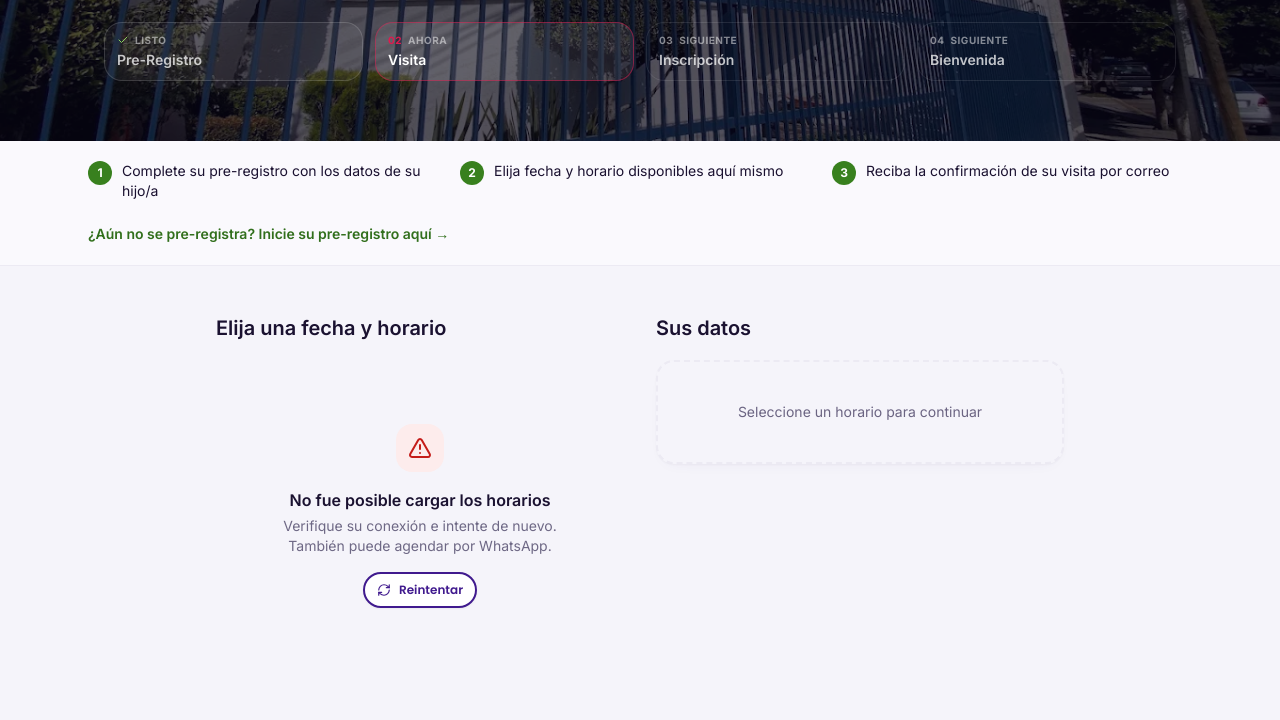
it: BookVisitPage › shows error state and recovers on retry
This screenshot has width=1280, height=720.
(page scrolled)
Expected: the text "No fue posible cargar los horarios" is shown, 290,488 -> 550,512
Click the button "Reintentar".
click(420, 590)  # box 363,572 -> 477,608
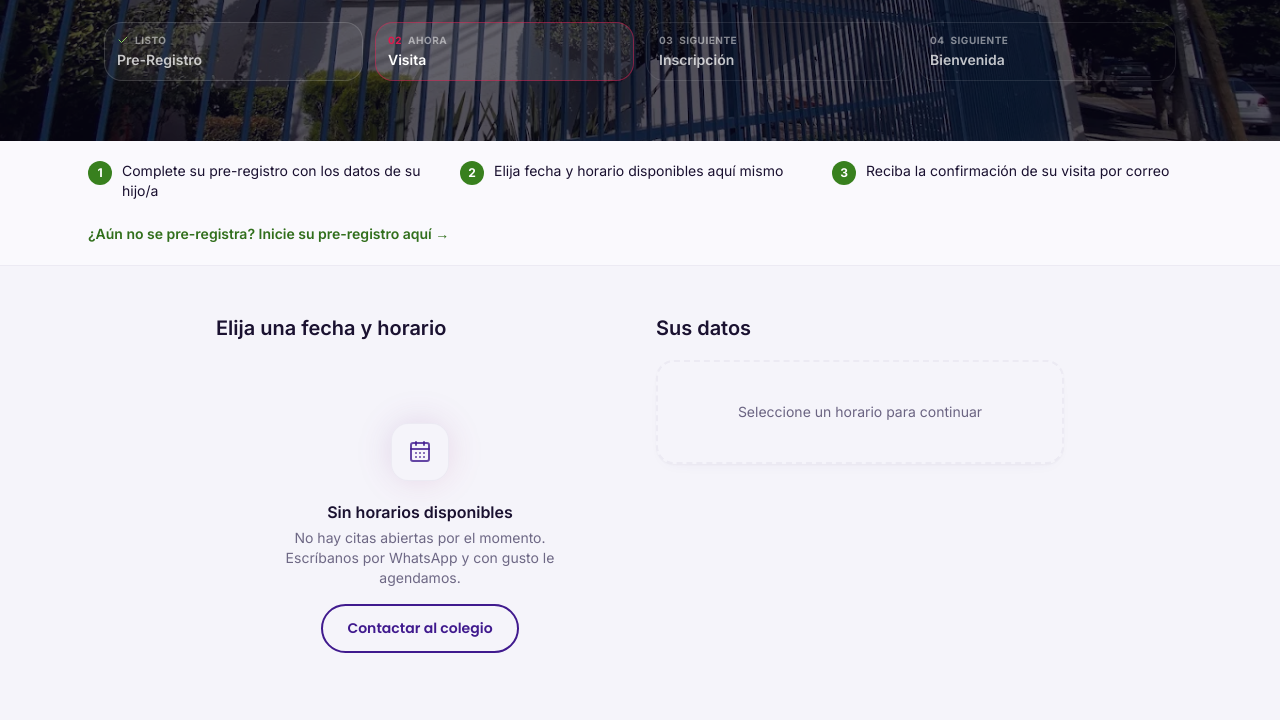
Expected: the heading "Sin horarios disponibles" is shown, 327,500 -> 513,524
